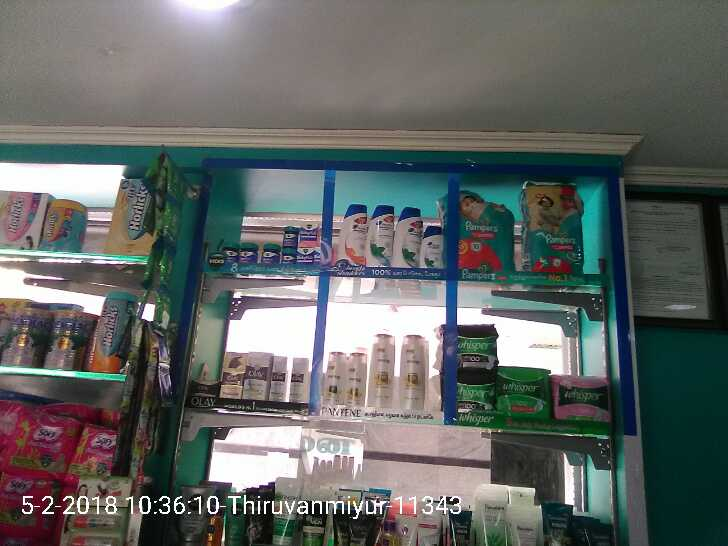vicks: (220, 209, 321, 265)
